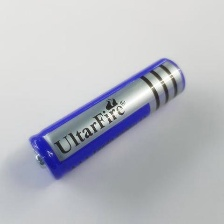battery: (25, 54, 186, 184)
